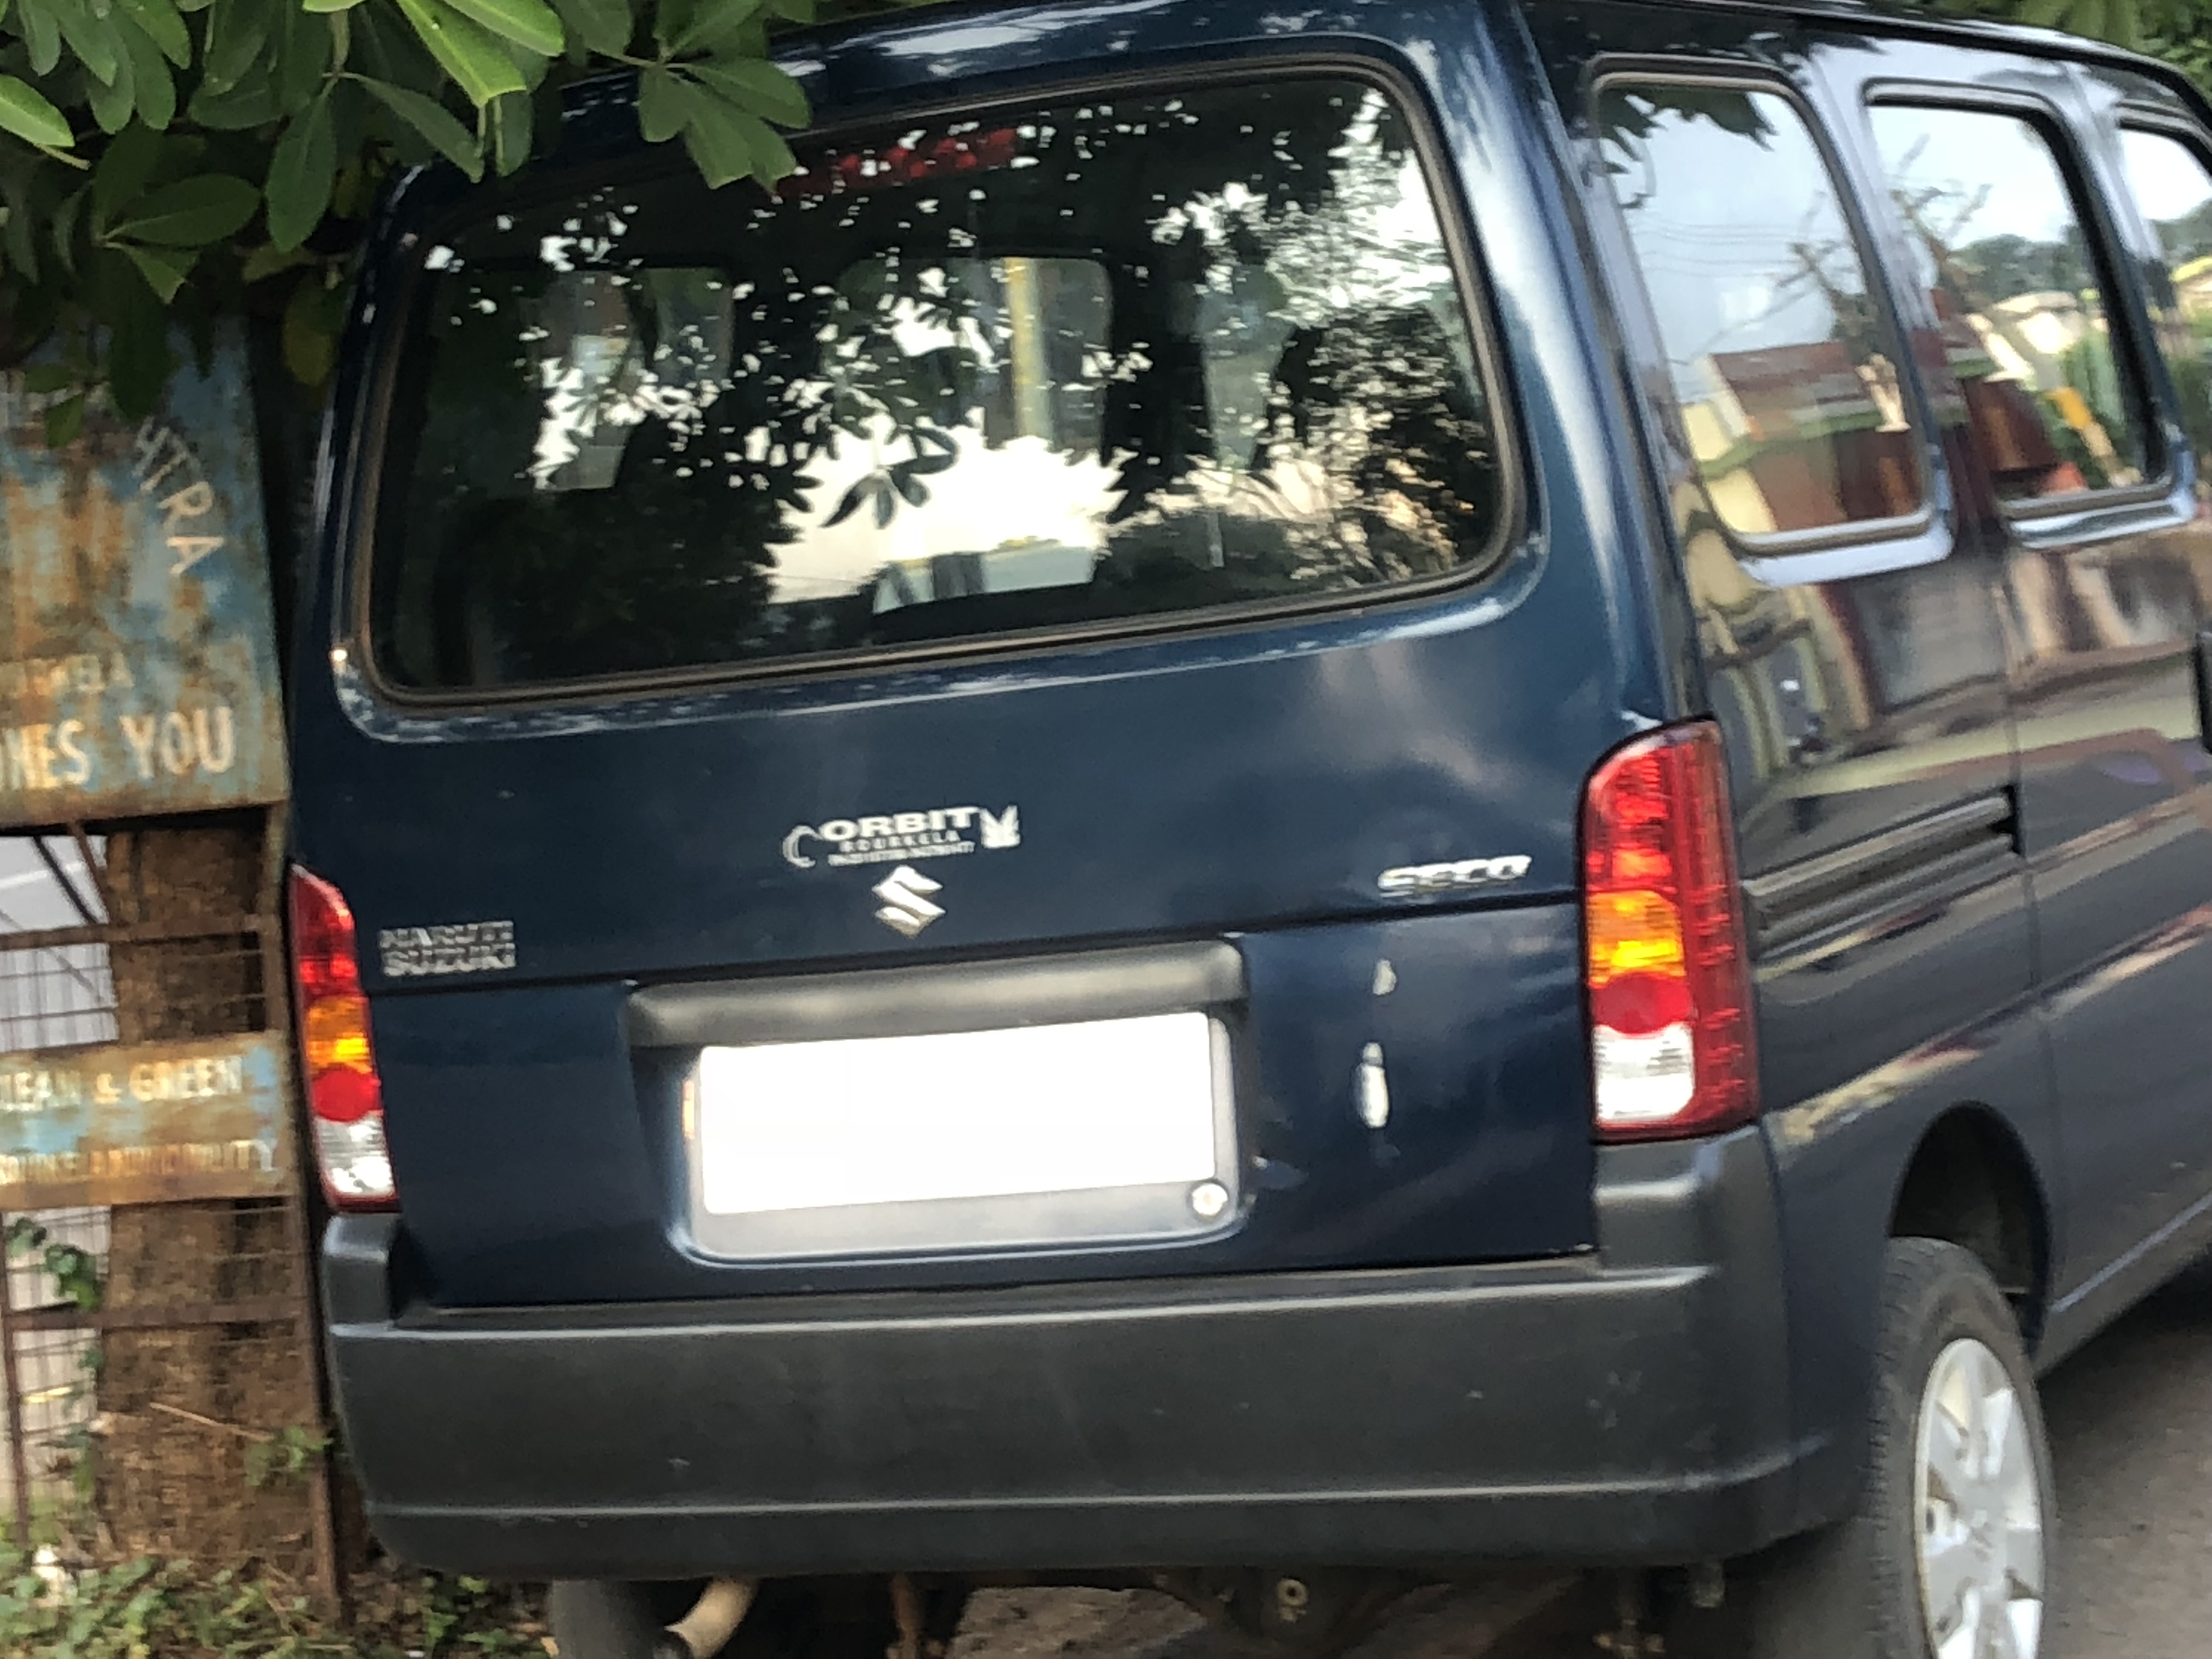licenseplate: (662, 1022, 1225, 1220)
